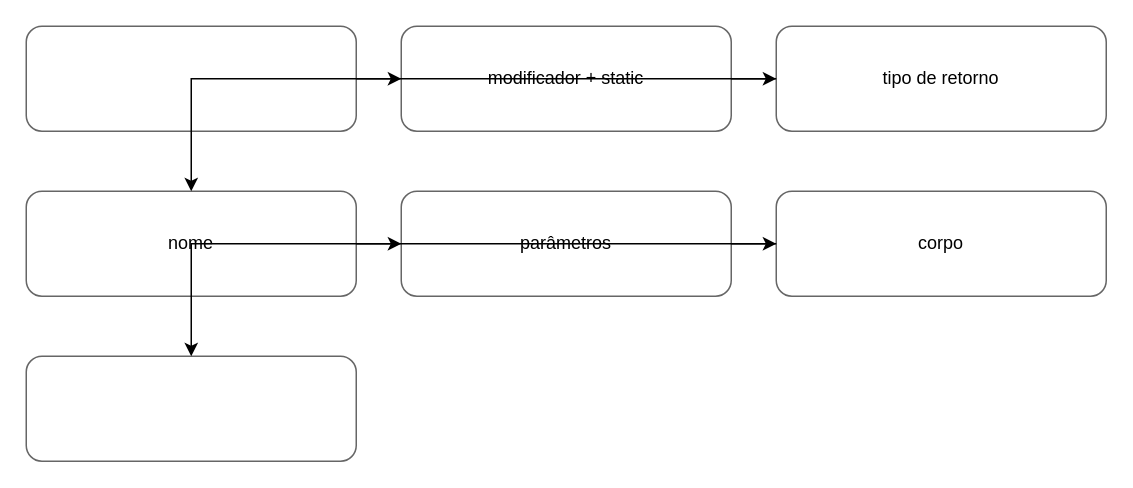
The diagram is 1133 pixels wide and 488 high, and some of its shapes have lost their labels. Each missing label, with the centre of its shape:
Método: pixel 190 78
return: pixel 190 408
